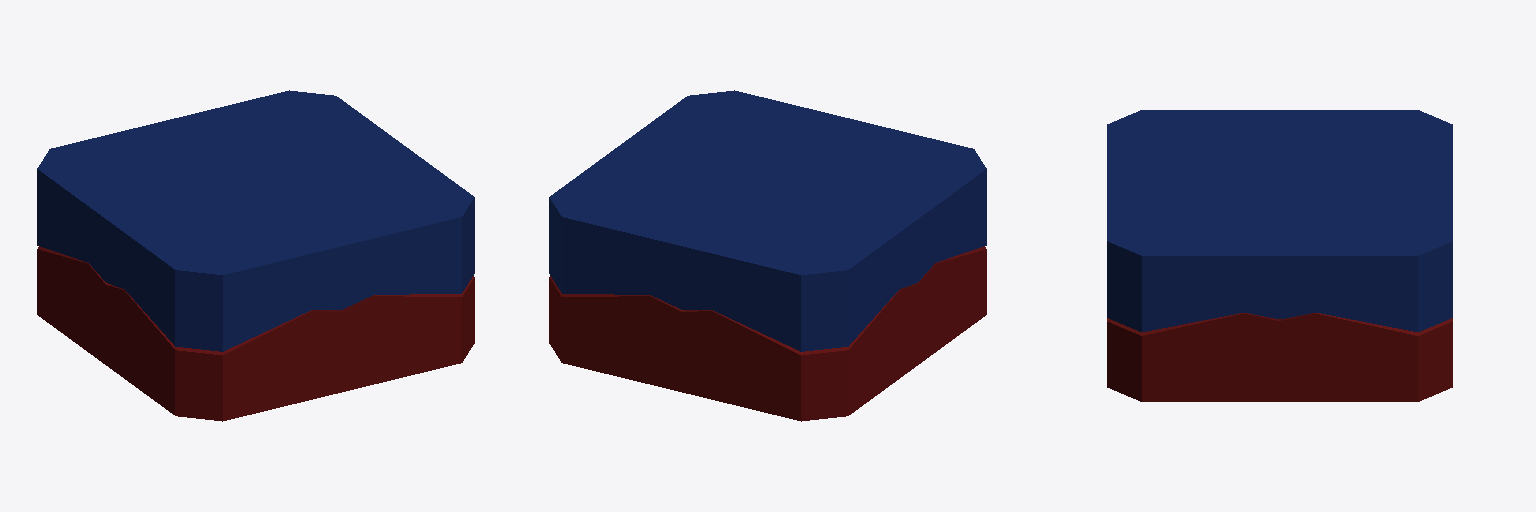
Rendered from Piston.obj.
3 renders of one model, left to right at view 1: azimuth 30°, elevation 25°; view 2: azimuth 150°, elevation 25°; view 3: azimuth 270°, elevation 25°, orthographic.
Visible parts, largest first — view 1: Push1, Handle1; view 2: Push1, Handle1; view 3: Push1, Handle1.
Part boxes in pixels (left/top/right/bottom): Push1: left=37, top=90, right=474, bottom=351; Handle1: left=37, top=246, right=474, bottom=421; Push1: left=549, top=90, right=986, bottom=351; Handle1: left=549, top=246, right=986, bottom=421; Push1: left=1107, top=110, right=1452, bottom=331; Handle1: left=1107, top=313, right=1452, bottom=401.
Size of the model in its own units: 0.6 by 0.28 by 0.6.